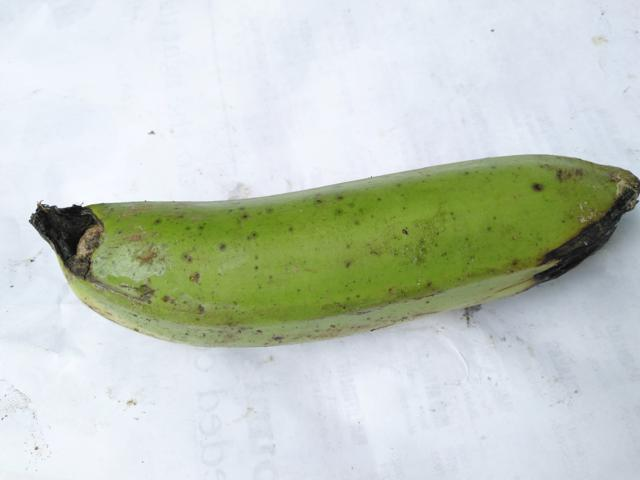rotten: (478, 153, 639, 341)
unripe: (57, 124, 539, 360)
